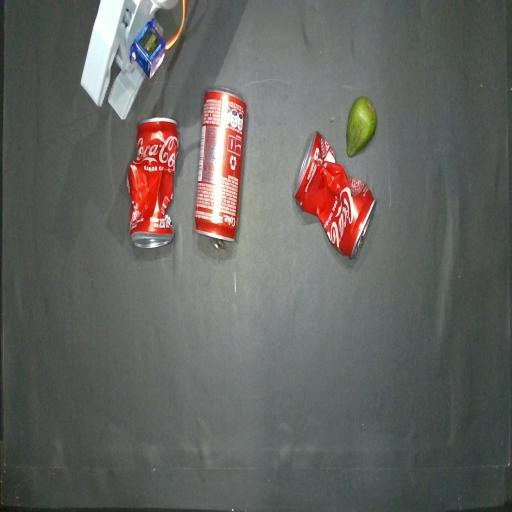higo: (347, 96, 376, 157)
lata: (195, 88, 247, 249)
lata_defectuoso: (294, 132, 376, 258), (128, 118, 179, 247)
